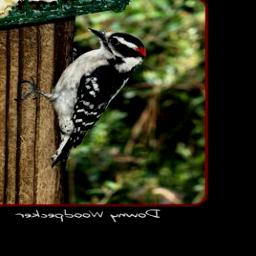Woodpecker: (11, 27, 148, 165)
